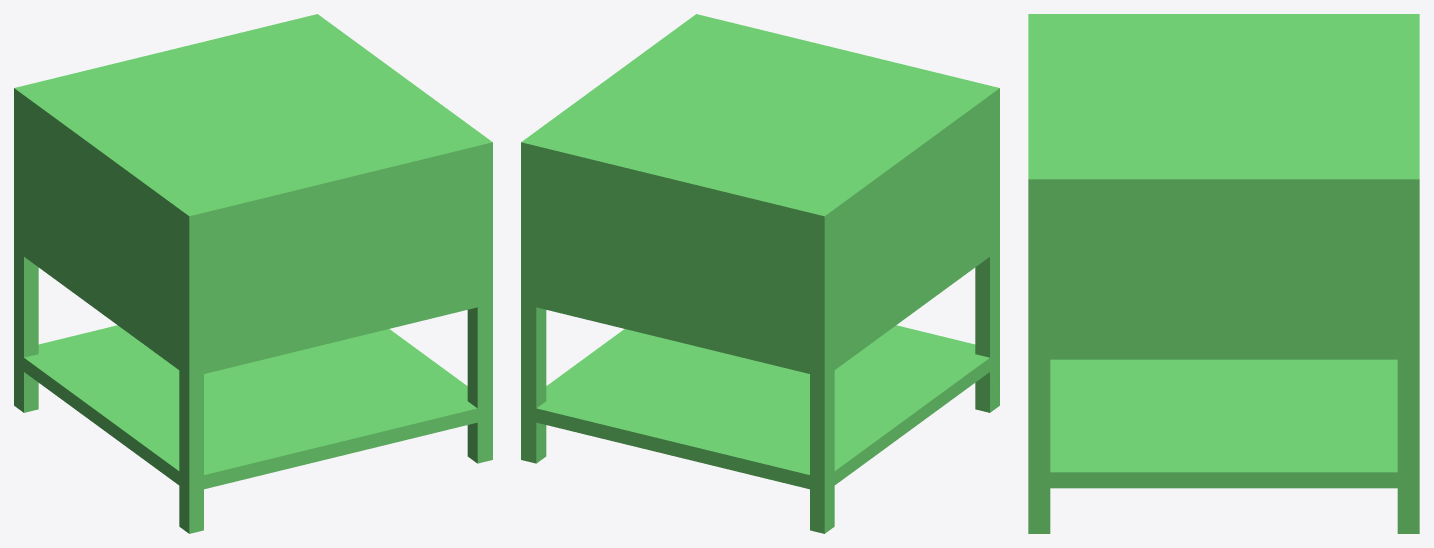
The model's file is Desk_08_A.fbx.
The picture shows the model from 3 angles, left to right: view 1: azimuth 30°, elevation 25°; view 2: azimuth 150°, elevation 25°; view 3: azimuth 270°, elevation 25°; orthographic projection. The views are drawn at different scales.
Parts seen in each view (by area): view 1: Desk_08_A; view 2: Desk_08_A; view 3: Desk_08_A.
Boxes of the visible parts, x1=… form: Desk_08_A: x1=14, y1=14, x2=492, y2=533; Desk_08_A: x1=521, y1=14, x2=999, y2=533; Desk_08_A: x1=1028, y1=14, x2=1419, y2=533.
Size of the model in its own units: 91.44 by 91.44 by 91.44.
